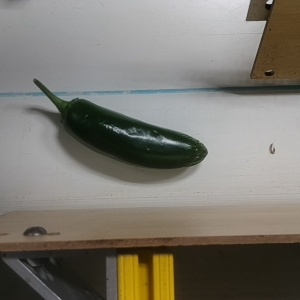Cut Point: (51, 94, 90, 131)
